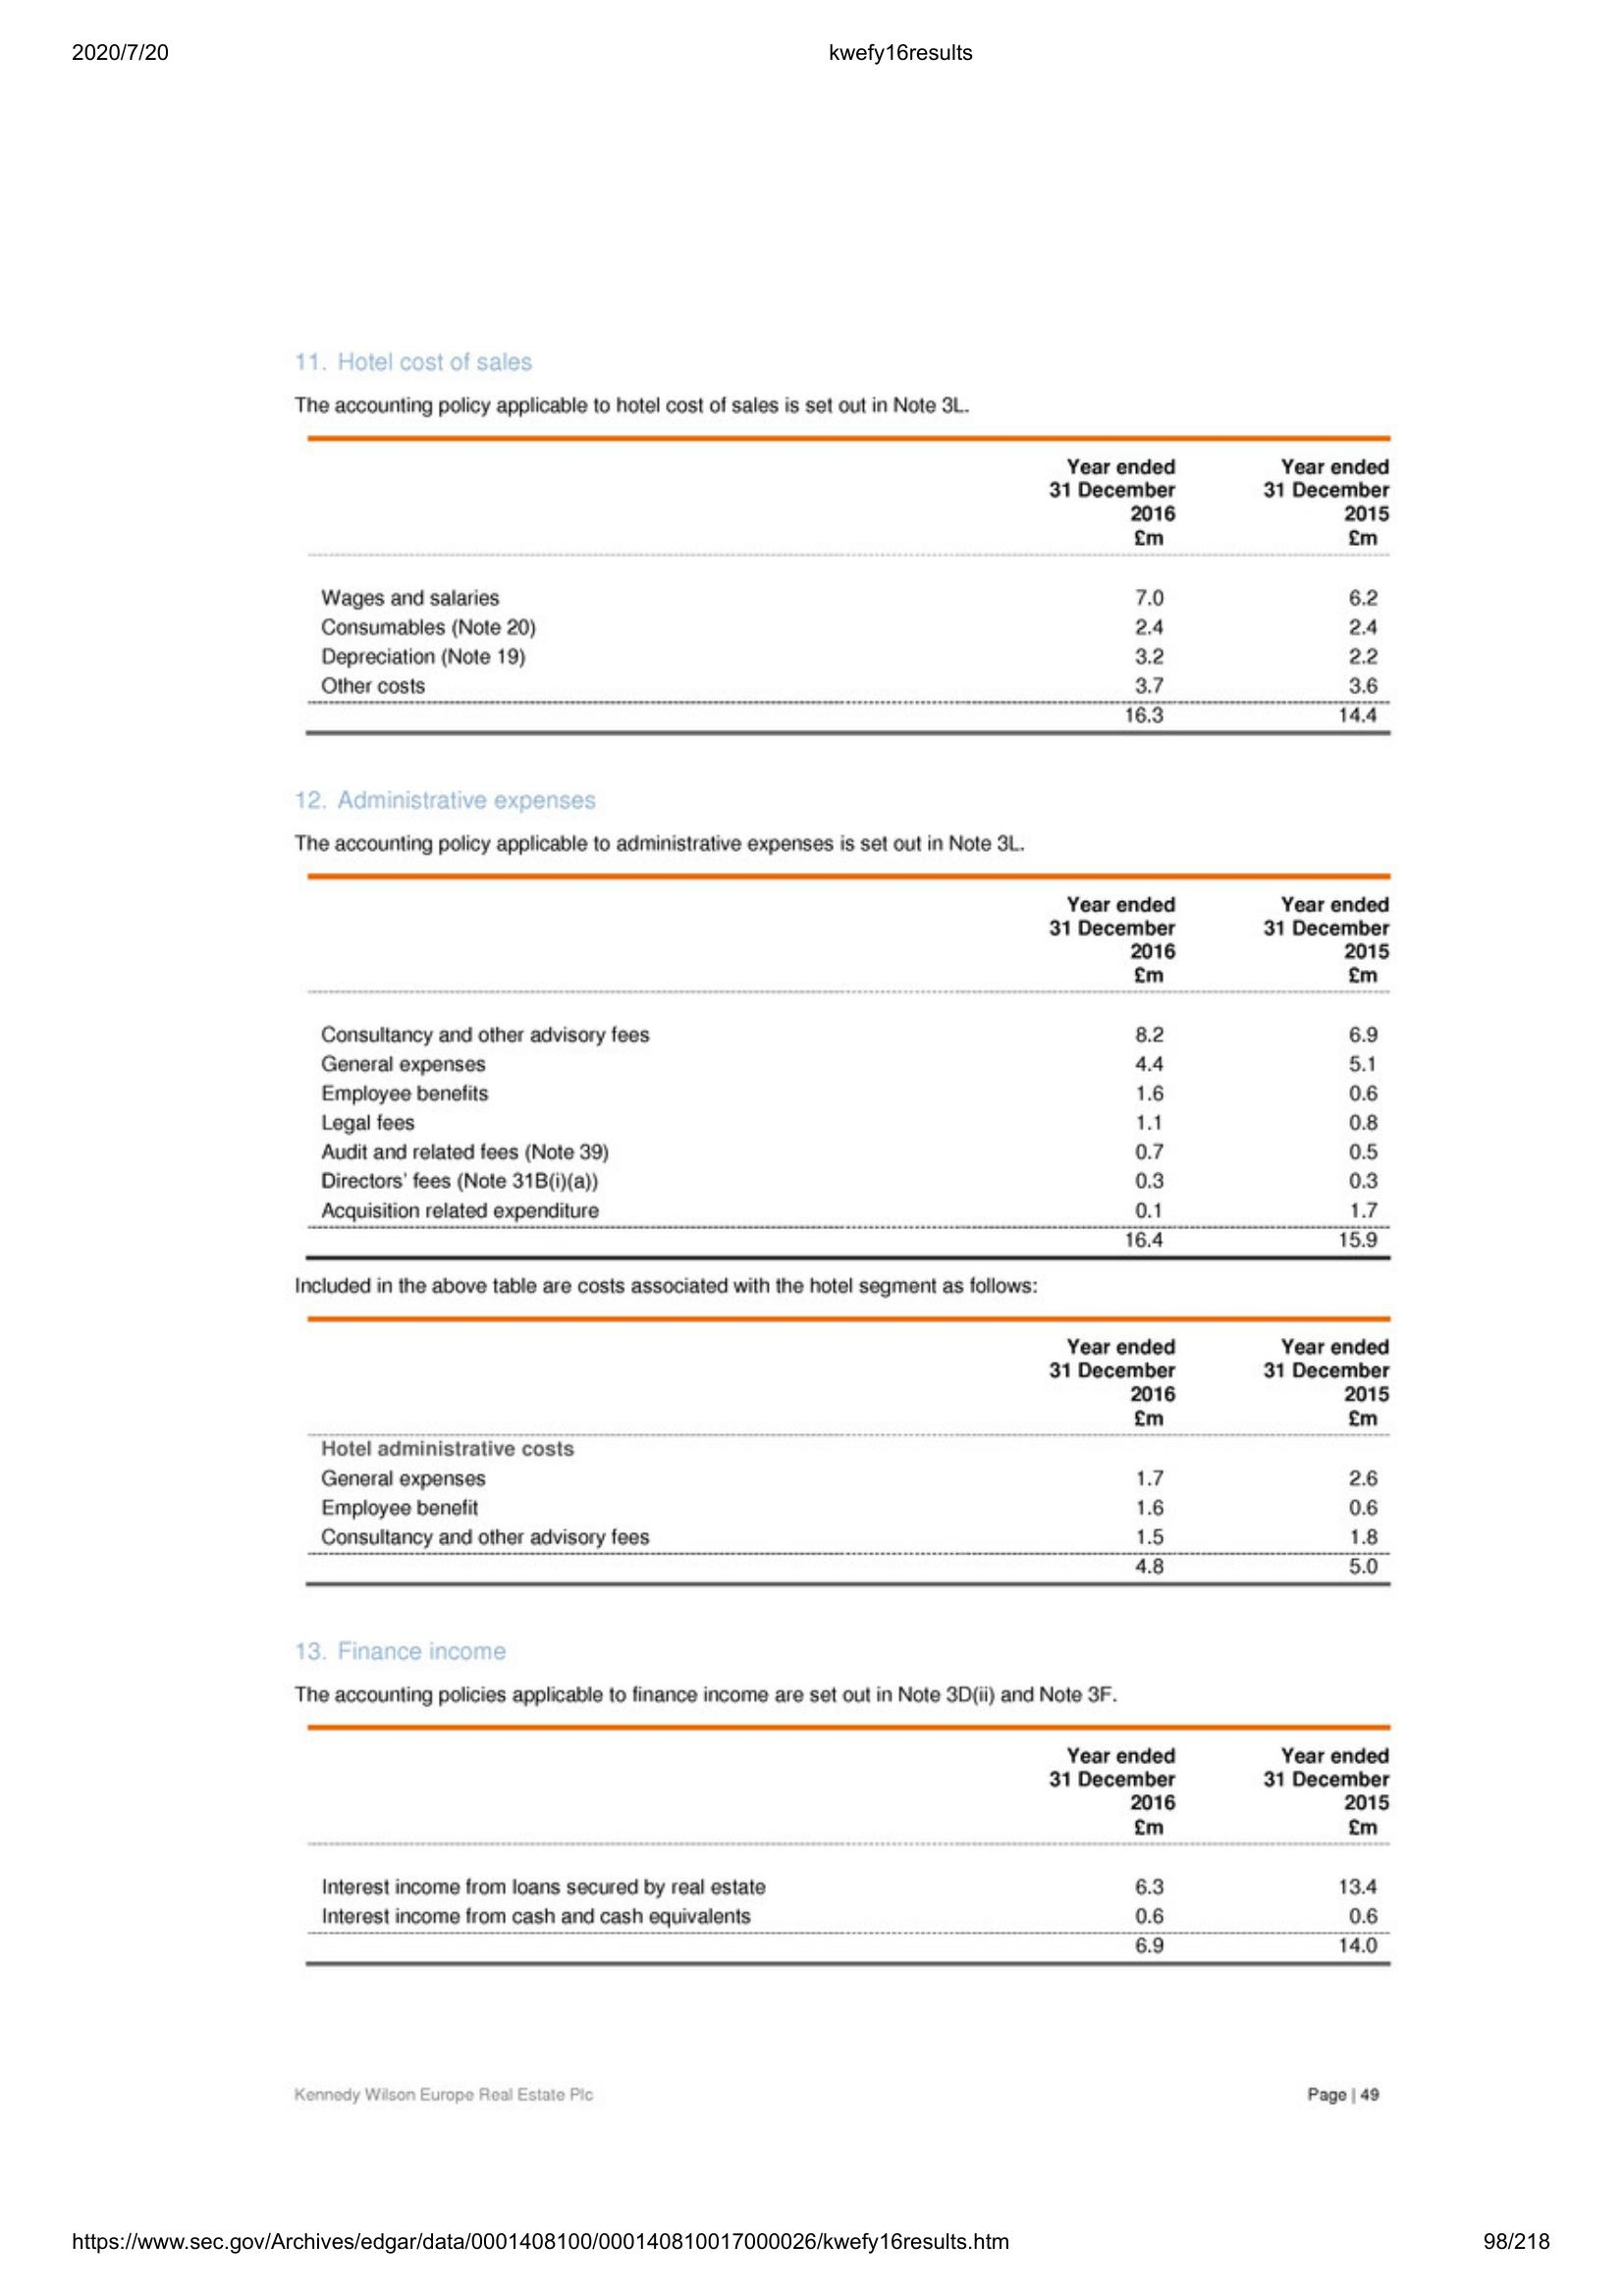table: (293, 865, 1398, 1269), (302, 428, 1398, 743), (297, 1308, 1396, 1601), (302, 1711, 1396, 1975)
